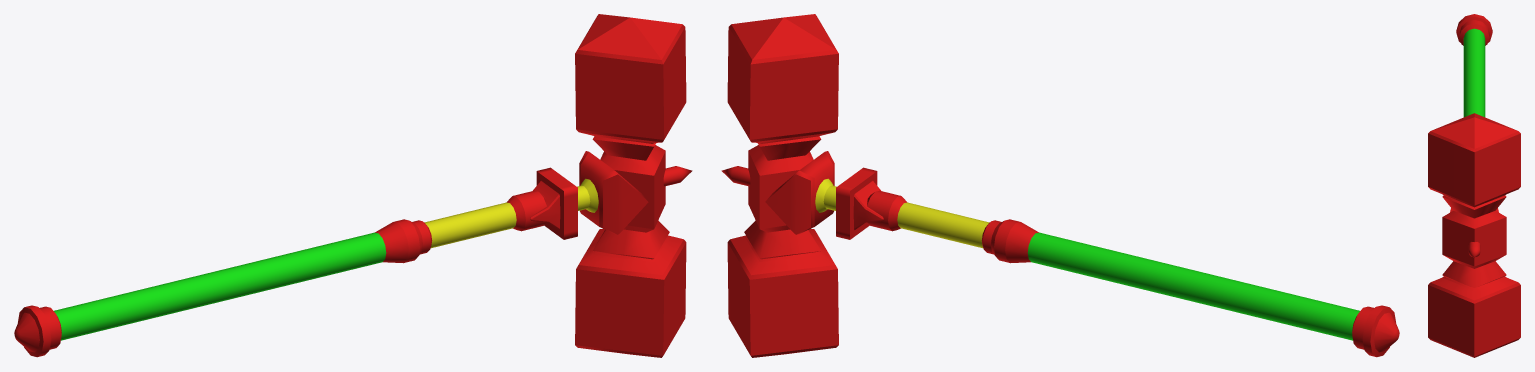
Rendered from OldBoysWorkshopHammer.fbx.
3 renders of one model, left to right at view 1: azimuth 30°, elevation 25°; view 2: azimuth 150°, elevation 25°; view 3: azimuth 270°, elevation 25°, orthographic. The views are drawn at different scales.
Visible parts, largest first — view 1: Old Boys Workshop; view 2: Old Boys Workshop; view 3: Old Boys Workshop.
Part boxes in pixels (bbox=[...]): Old Boys Workshop: bbox=[14, 14, 692, 357]; Old Boys Workshop: bbox=[721, 14, 1399, 357]; Old Boys Workshop: bbox=[1428, 14, 1520, 357].
Size of the model in its own units: 83.53 by 39.69 by 14.11.
